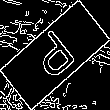P_SE: (26, 24, 84, 86)
